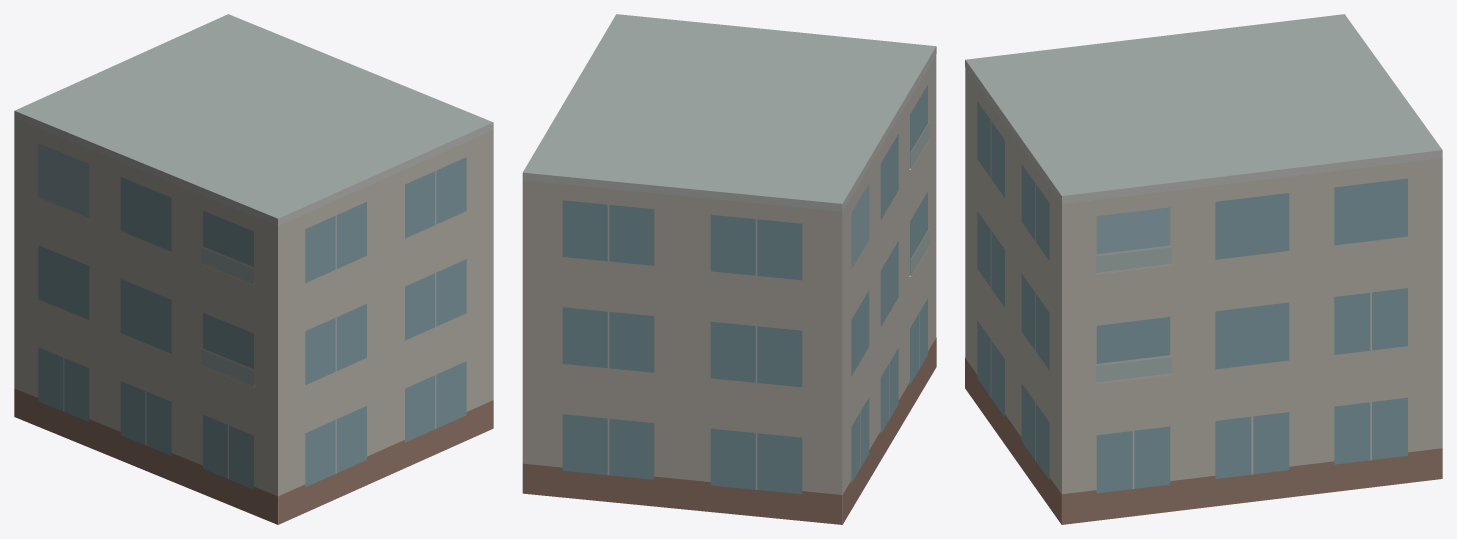
The model's file is survey-upis-32621912.glb.
3 views of the same model, side by side, from view 1: azimuth 30°, elevation 25°; view 2: azimuth 150°, elevation 25°; view 3: azimuth 270°, elevation 25° (orthographic). The views are drawn at different scales.
Visible parts, largest first — view 1: survey-upis-32621912.tmp; view 2: survey-upis-32621912.tmp; view 3: survey-upis-32621912.tmp.
Boxes of the visible parts, x1=… form: survey-upis-32621912.tmp: x1=14, y1=14, x2=493, y2=524; survey-upis-32621912.tmp: x1=522, y1=14, x2=936, y2=524; survey-upis-32621912.tmp: x1=965, y1=14, x2=1442, y2=524.
Bounding box in the file's own units: 12.01 × 10.1 × 13.3.
